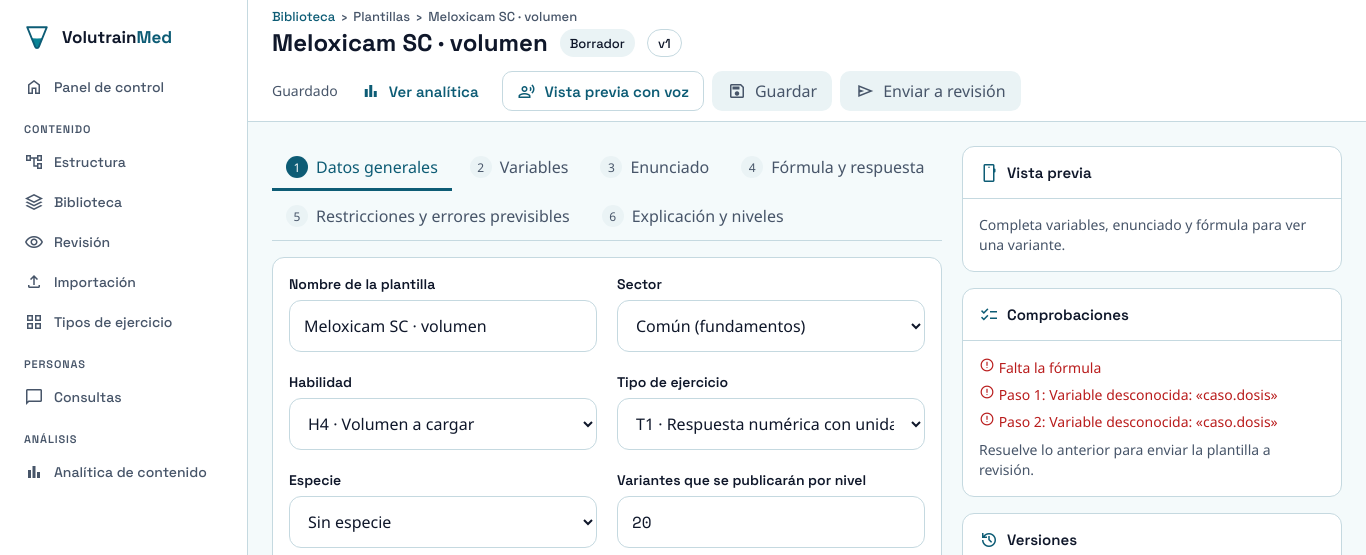
B06–B09 · editor de plantillas › Unidades coherentes: el editor indica que la fórmula produce ml
Click the tab "4 Fórmula y respuesta" at point(833, 168), box [727,146,938,191]
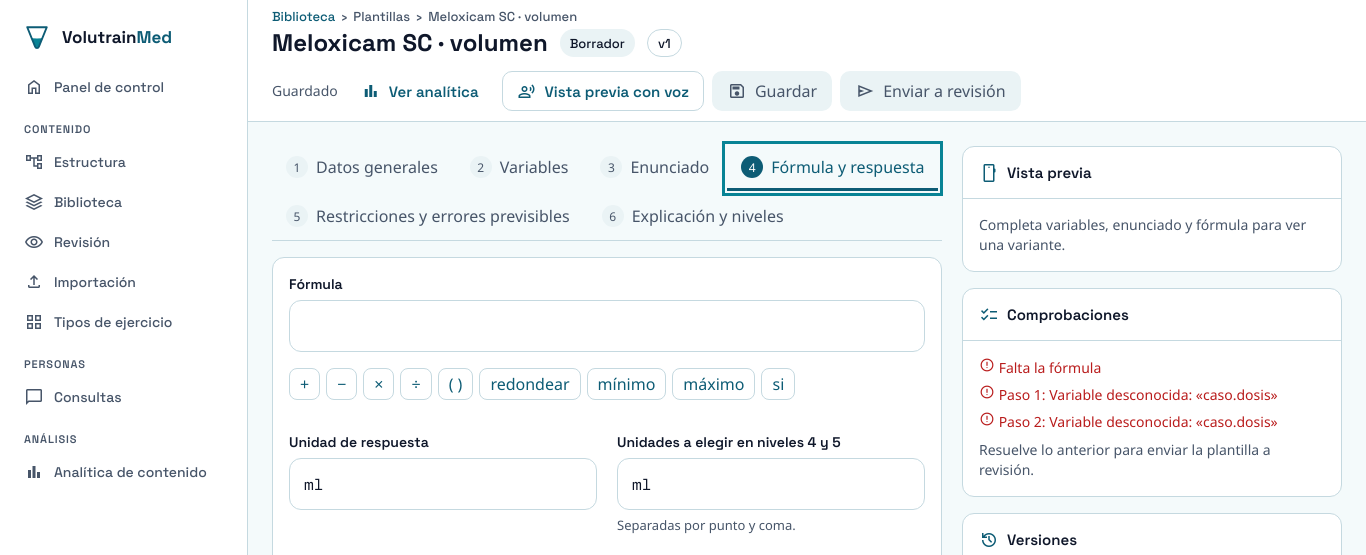
Type "dosis × peso ÷ conc" into the field labelled "Fórmula" at point(607, 326), box [289,300,925,352]
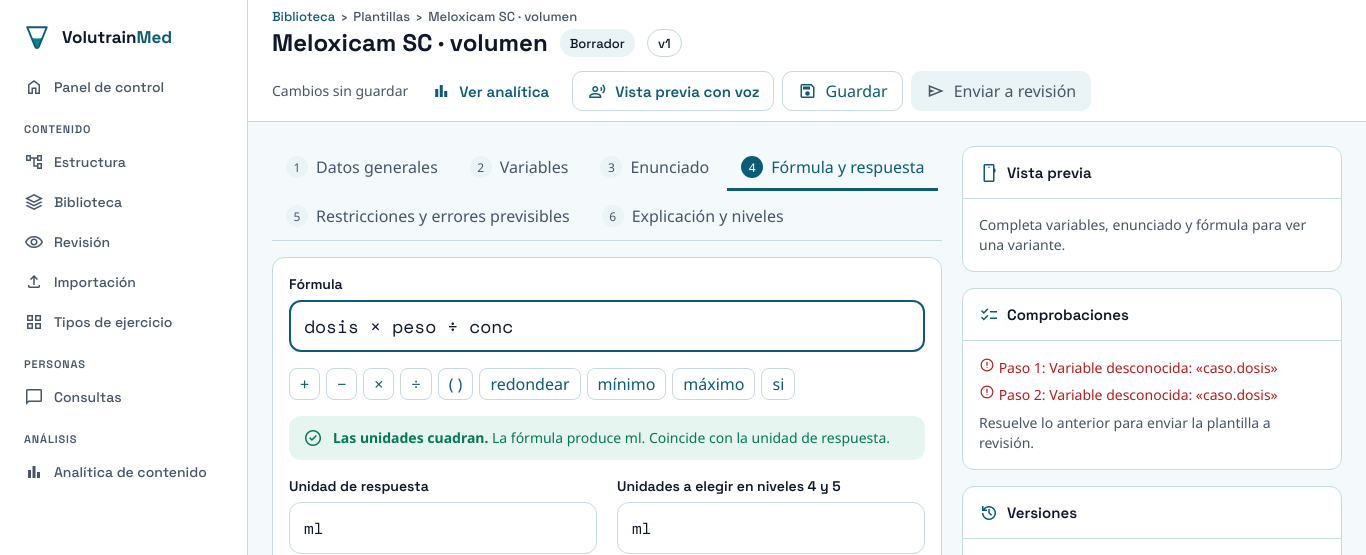
Check: the text "La fórmula produce ml" is shown, box [492,428,642,447]
Check: the text "Las unidades cuadran." is shown, box [333,428,488,447]
Check: the button "Guardar" is enabled, box [782,71,903,111]
